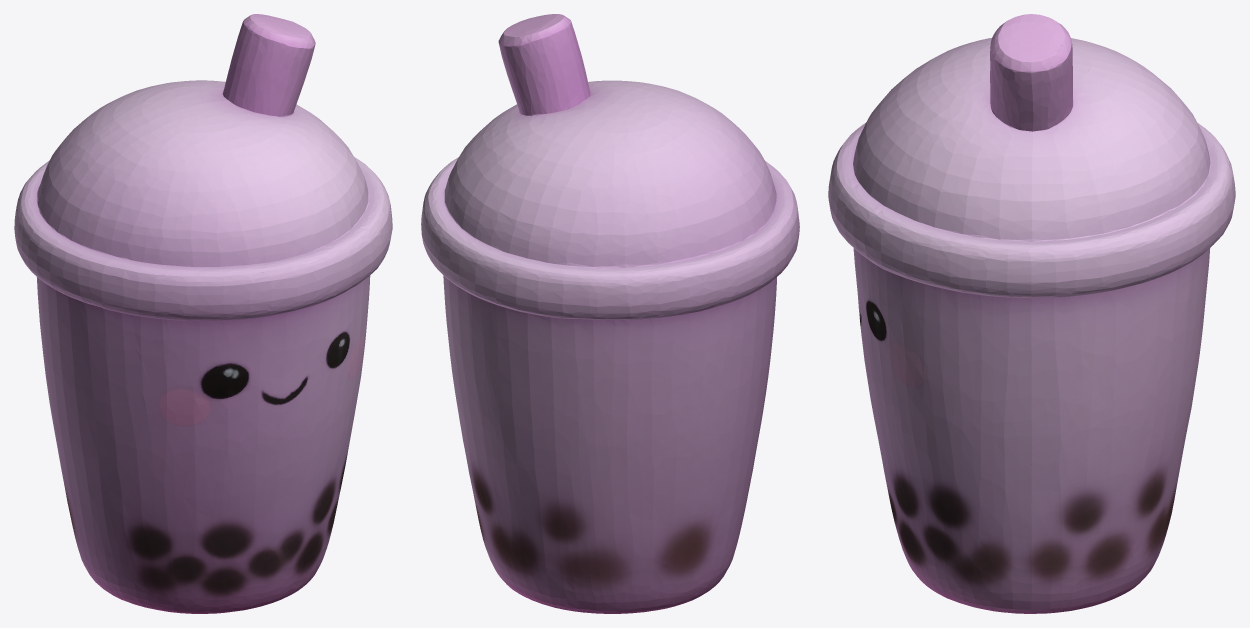
Rendered from boba.glb.
3 views of the same model, side by side, from view 1: azimuth 30°, elevation 25°; view 2: azimuth 150°, elevation 25°; view 3: azimuth 270°, elevation 25° (orthographic). The views are drawn at different scales.
Visible parts, largest first — view 1: geometry_0; view 2: geometry_0; view 3: geometry_0.
Boxes of the visible parts, left/top/right/bottom form: geometry_0: left=14, top=14, right=392, bottom=613; geometry_0: left=421, top=14, right=799, bottom=613; geometry_0: left=828, top=14, right=1235, bottom=613.
Size of the model in its own units: 0.6483 by 0.9999 by 0.6385.
1 material, 1 textured.
